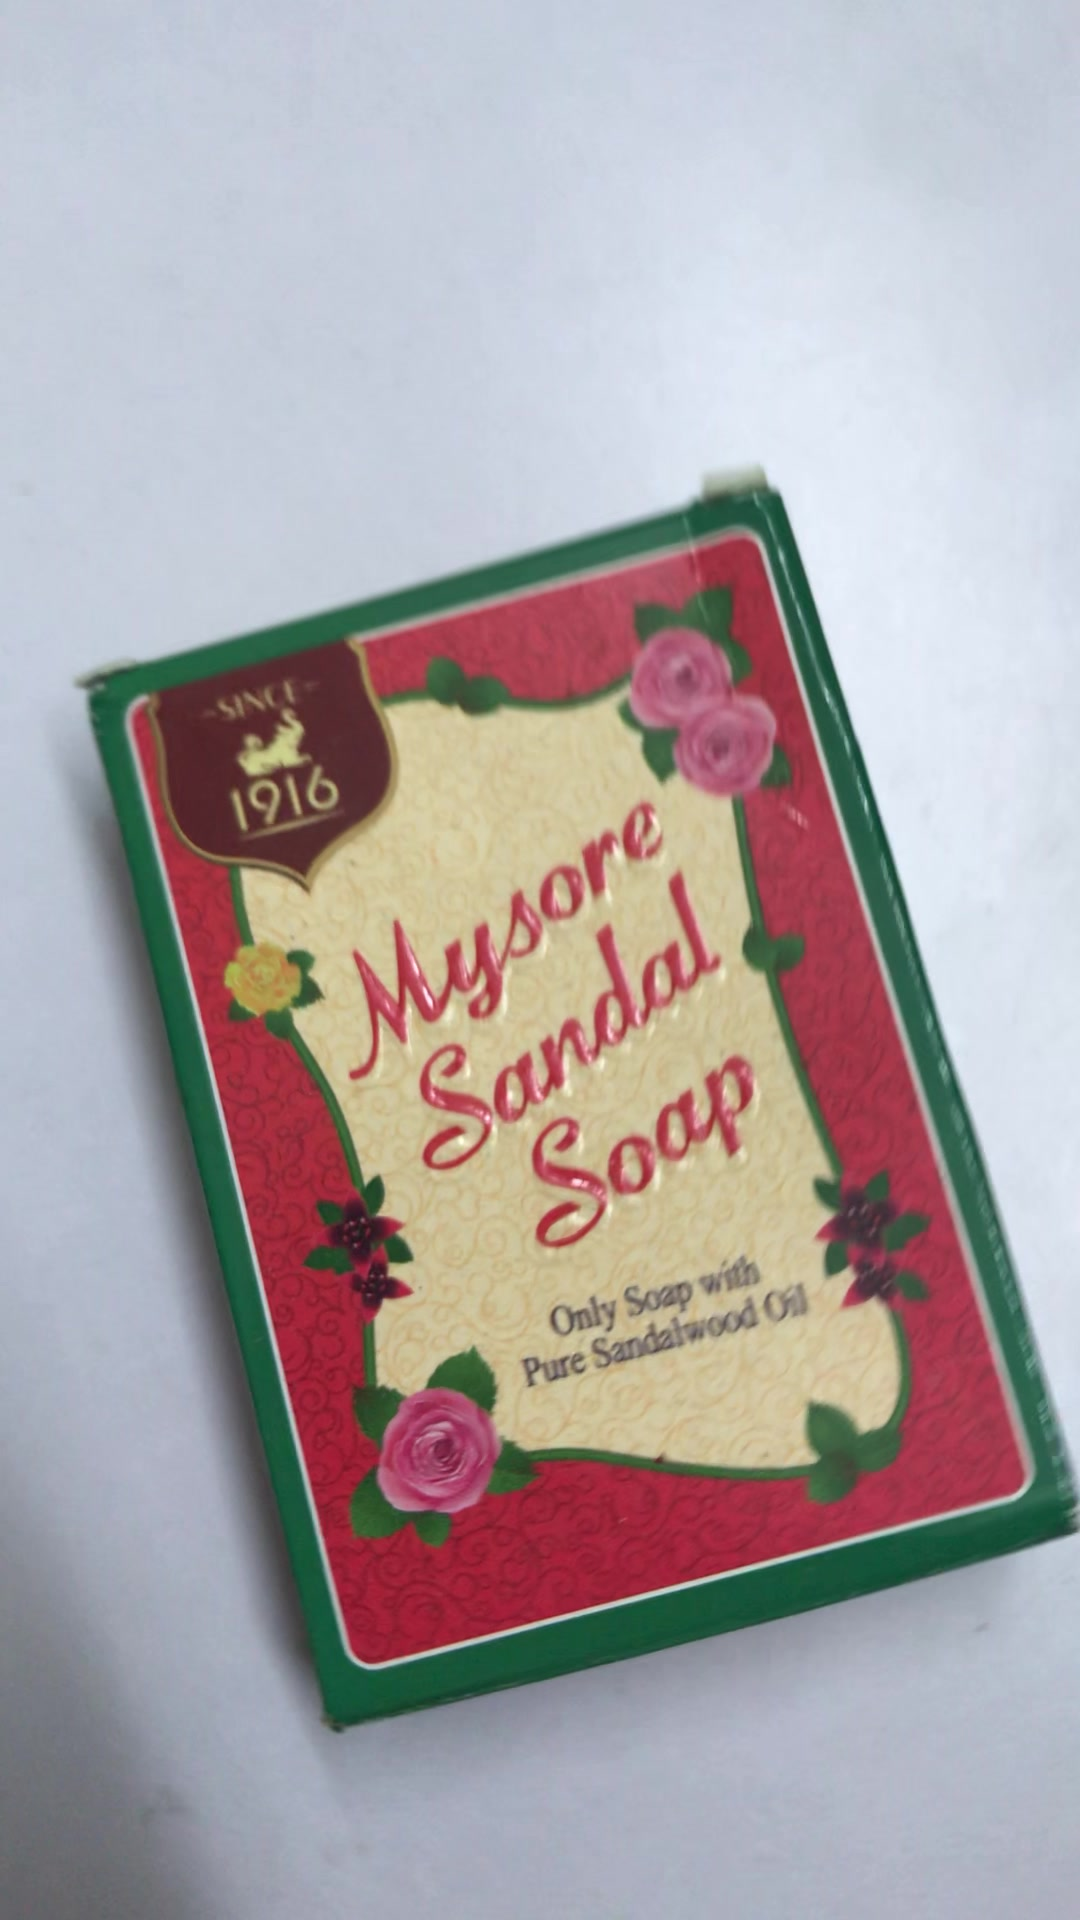mysore sandal soap: (82, 492, 1069, 1733)
